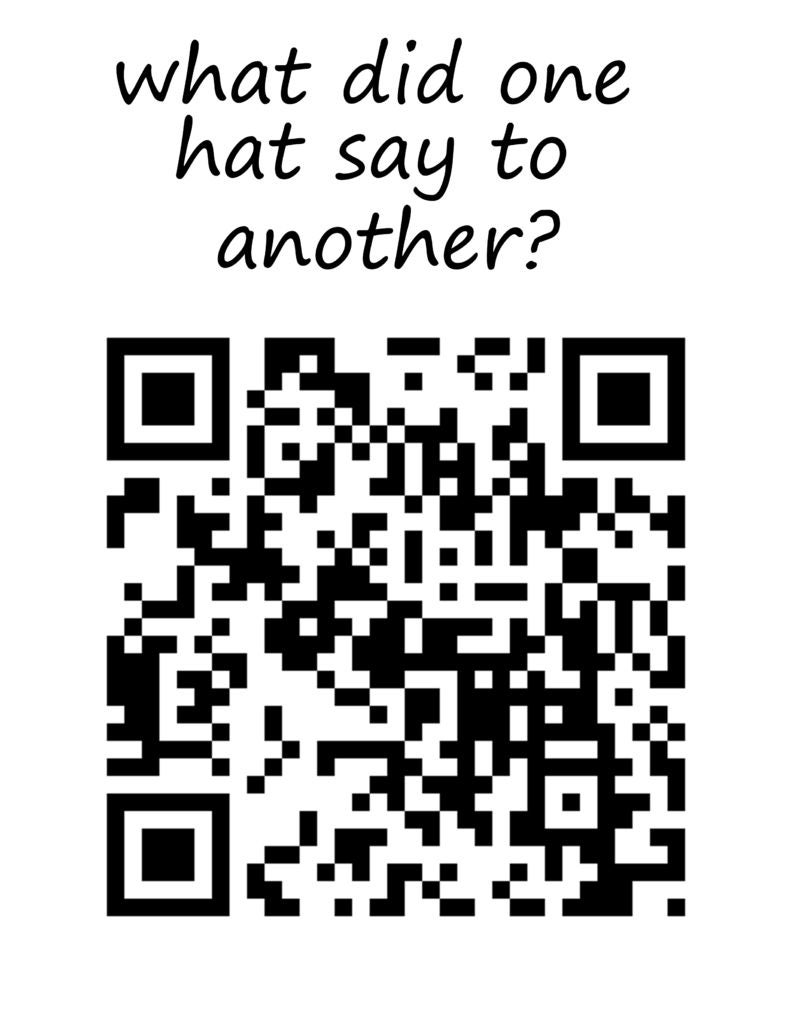QR: (107, 333, 680, 916)
